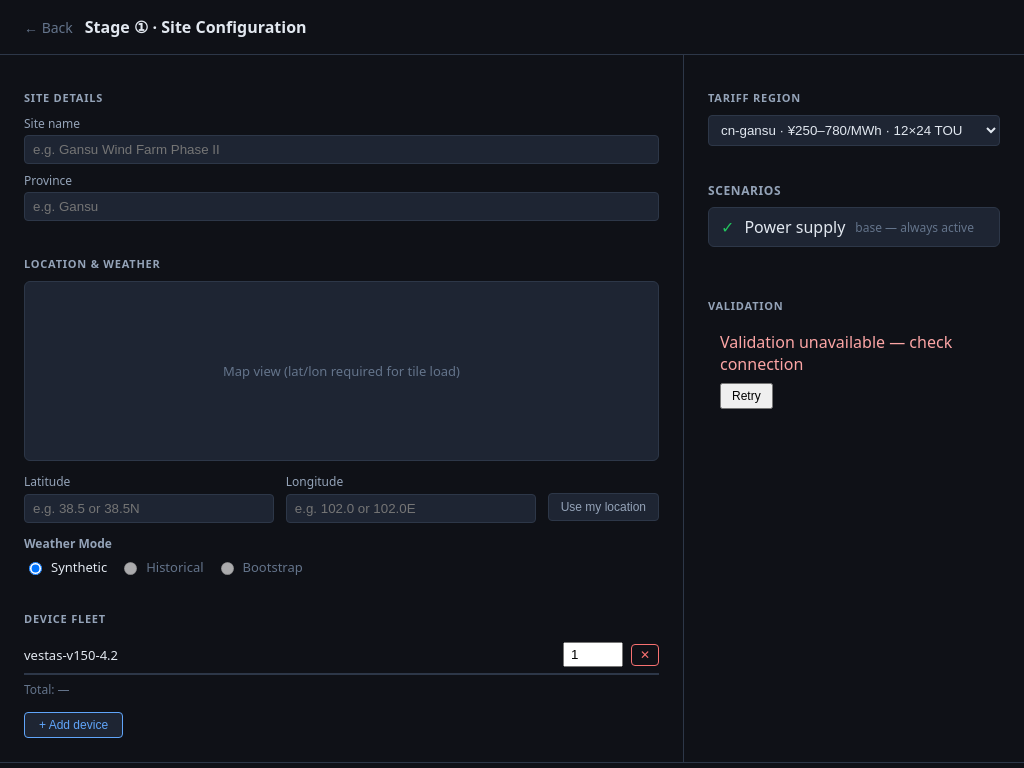
it: reviewer: §T-API-FAIL assemble failure surfaces in ValidationPanel (§5.1, T-UNHAPPY-2) › reviewer: [T-API-FAIL-1] assemble 500 → validation-api-error shown, stage not COMPLETE; Retry recovers
Expected: the message "Validation unavailable — check connection" is shown, [720,331,988,375]
Step 1. Click the button with test id "validation-retry" → (746, 396), box [720,383,773,409]
Wait 350 ms
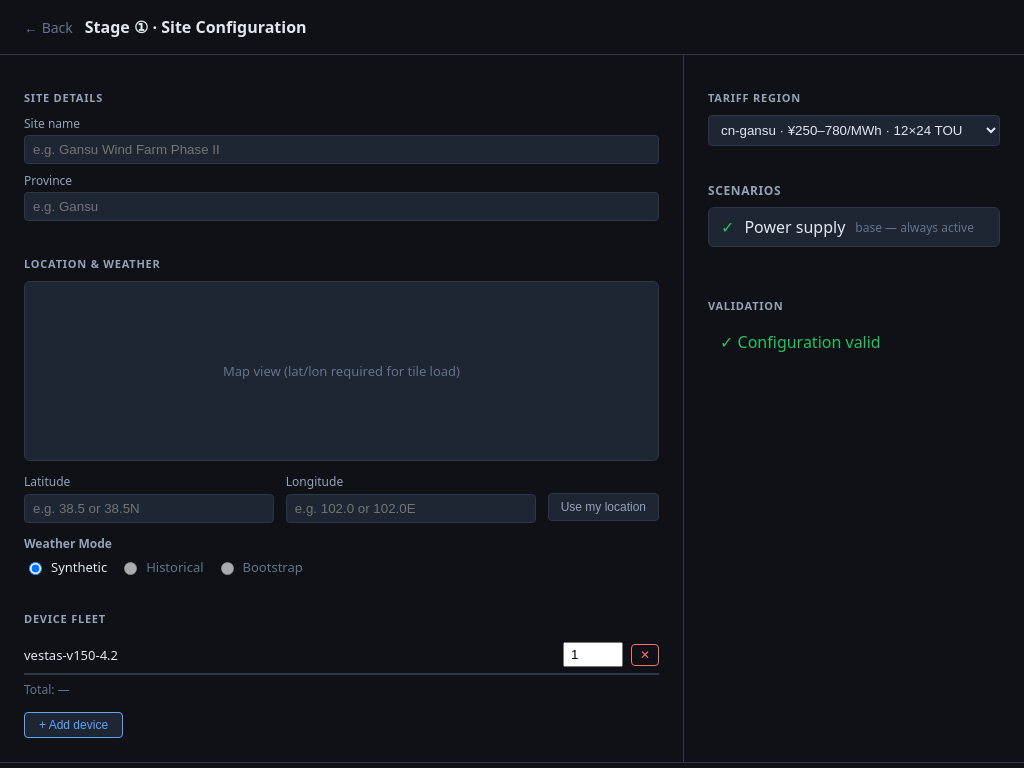
Expected: the message with test id "validation-api-error" is gone
Expected: the text "✓ Configuration valid" is shown, [720,331,881,353]
